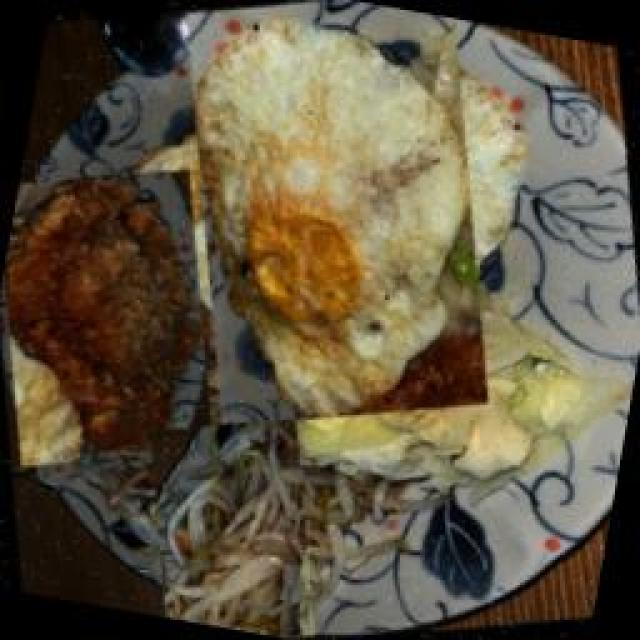Wet Waste: (98, 0, 580, 448), (195, 222, 640, 572), (0, 140, 262, 500), (105, 402, 363, 640)
